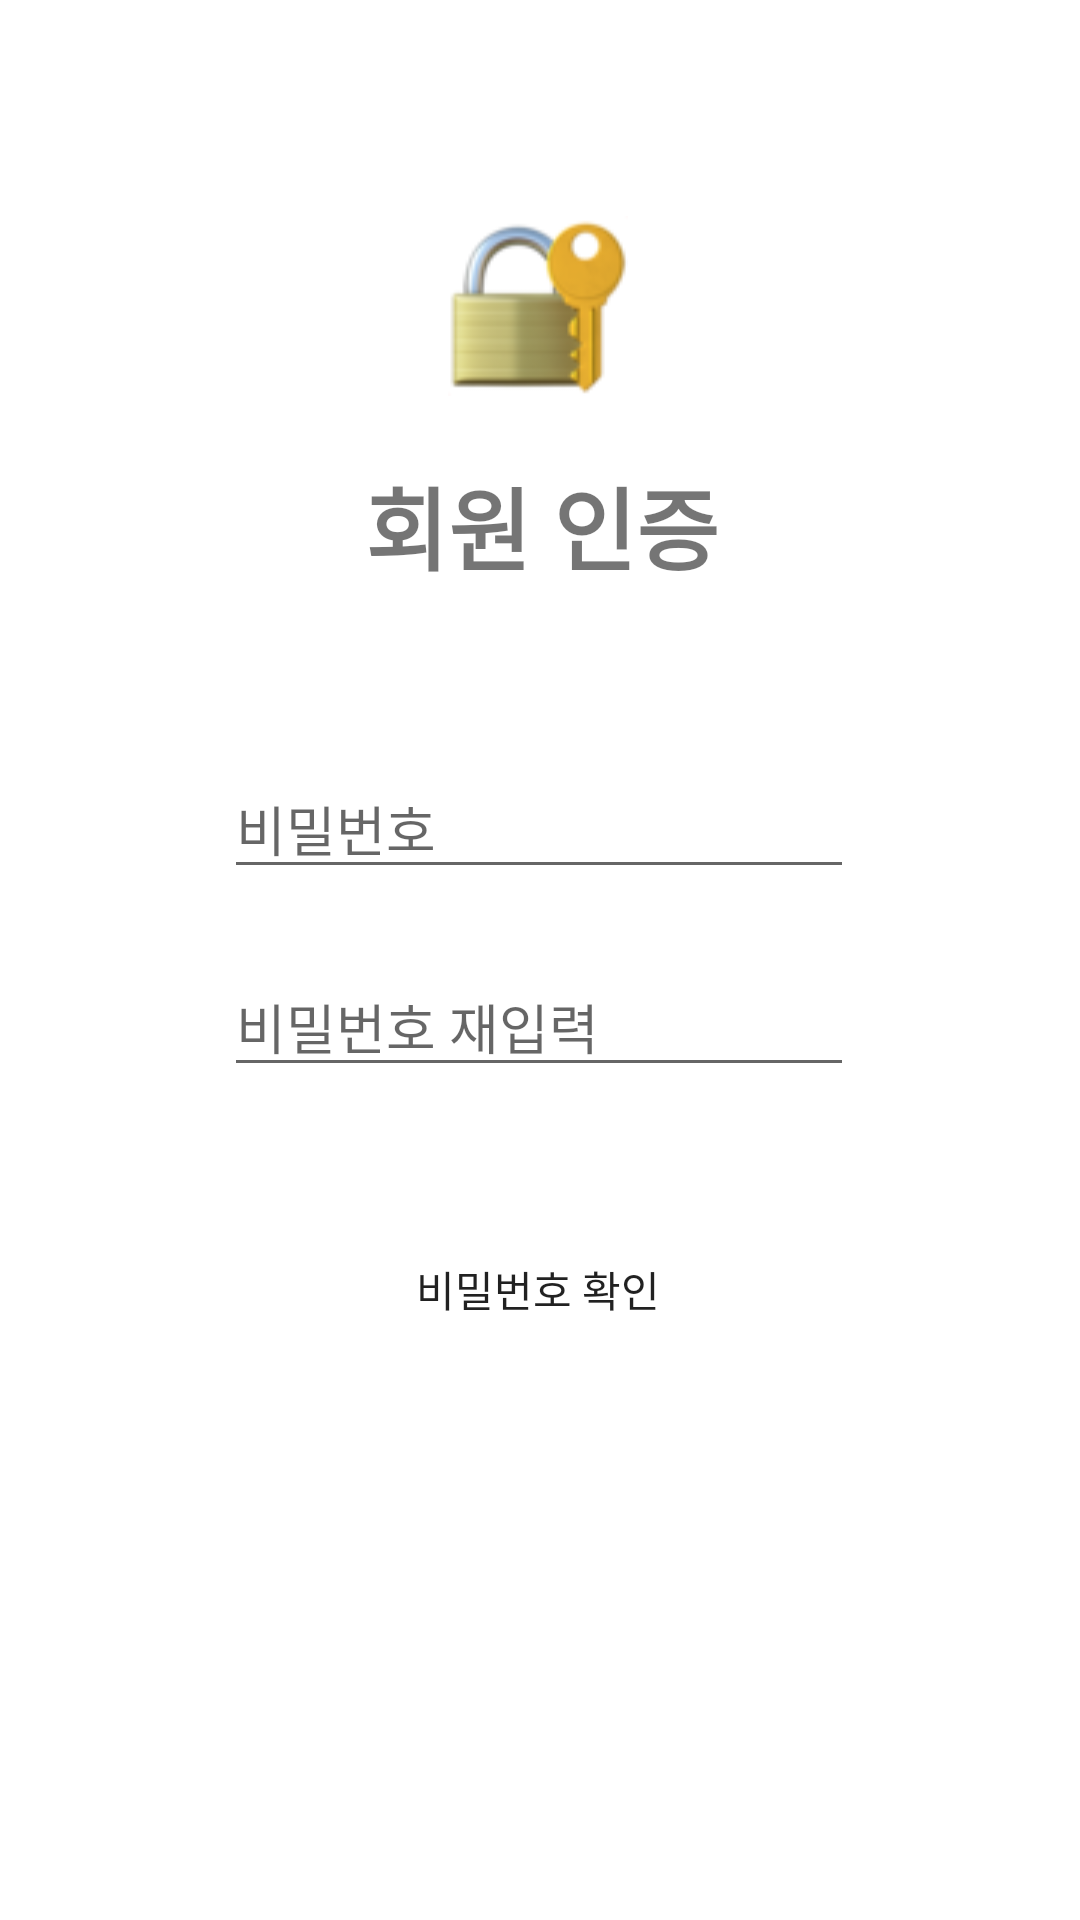

Named icons in this screenshot (1080w x 1920h) and their centers, [x,y]:
lock: [538,307]
